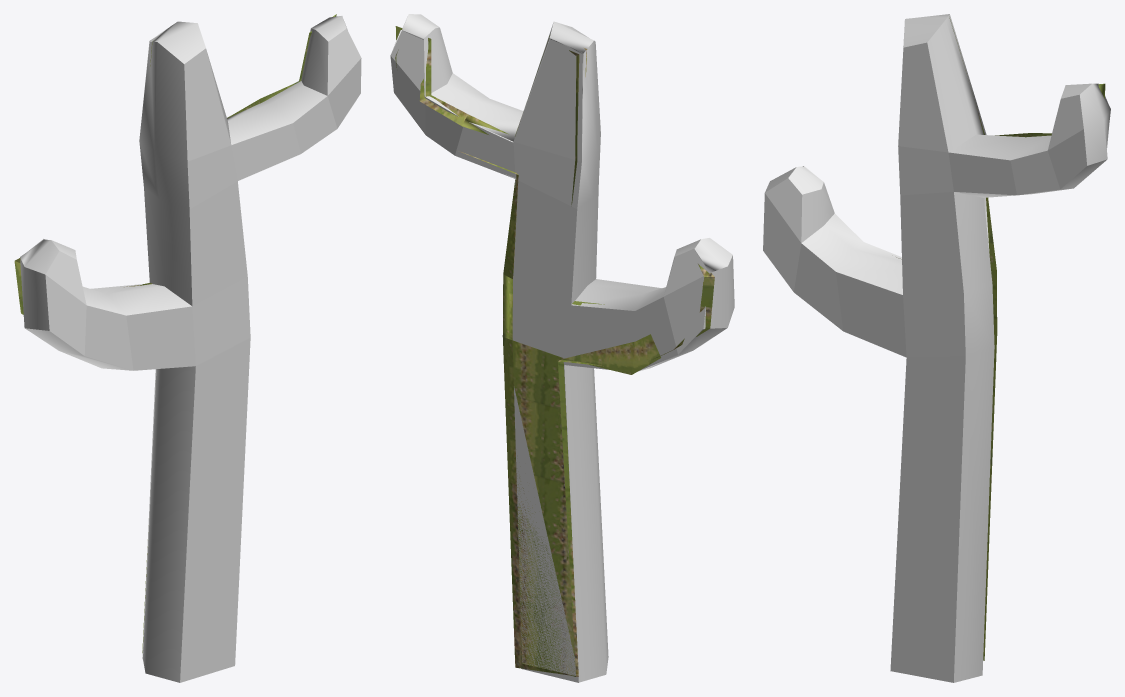
The model's file is Cactus1(Textured) 1.fbx.
3 renders of one model, left to right at view 1: azimuth 30°, elevation 25°; view 2: azimuth 150°, elevation 25°; view 3: azimuth 330°, elevation 25°, orthographic.
Parts seen in each view (by area): view 1: pPlane1; view 2: pPlane1; view 3: pPlane1.
Part boxes in pixels (box(x1,y1,x2,y2)): pPlane1: box(14, 14, 361, 682); pPlane1: box(390, 14, 734, 682); pPlane1: box(763, 14, 1110, 682).
Size of the model in its own units: 5.62 by 10.28 by 1.08.
